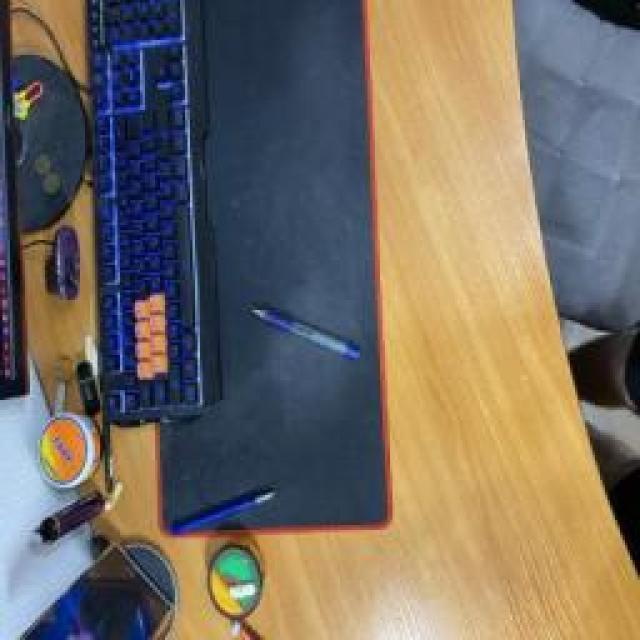pen: (250, 305, 360, 363)
